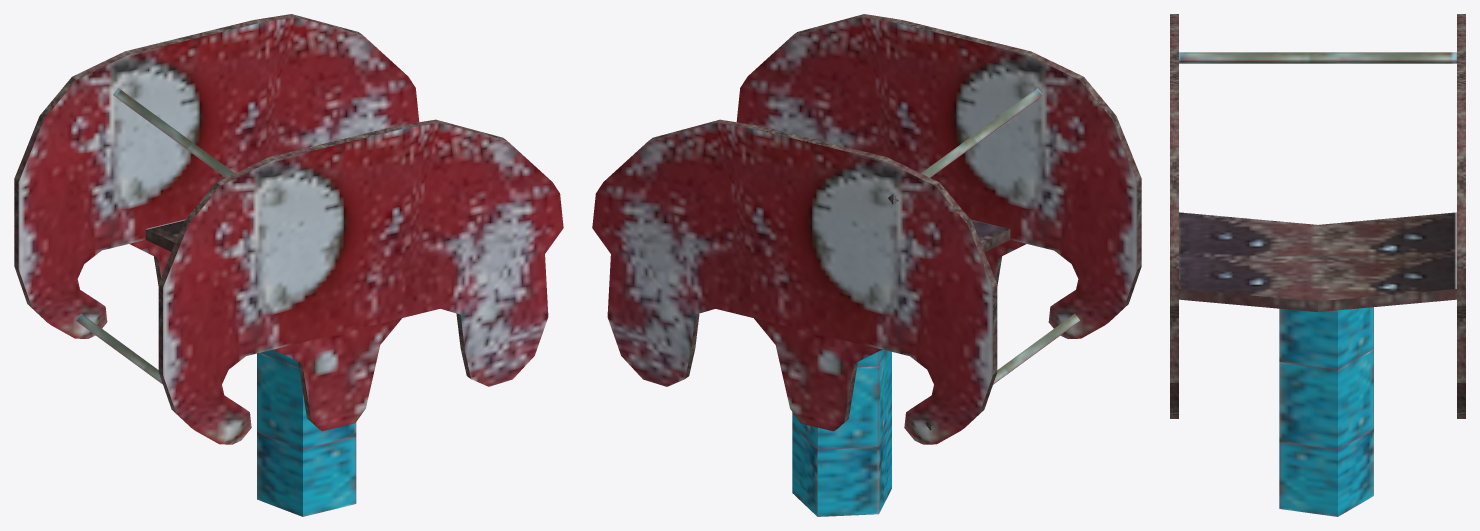
Rendered from ElephantWhip01.obj.
3 views of the same model, side by side, from view 1: azimuth 30°, elevation 25°; view 2: azimuth 150°, elevation 25°; view 3: azimuth 270°, elevation 25° (orthographic).
Visible parts, largest first — view 1: ElephantWhip01; view 2: ElephantWhip01; view 3: ElephantWhip01.
Boxes of the visible parts, x1,y1,x2,y2 form: ElephantWhip01: [14, 14, 563, 516]; ElephantWhip01: [592, 14, 1141, 516]; ElephantWhip01: [1170, 14, 1465, 516].
Size of the model in its own units: 1.55 by 1.55 by 1.
